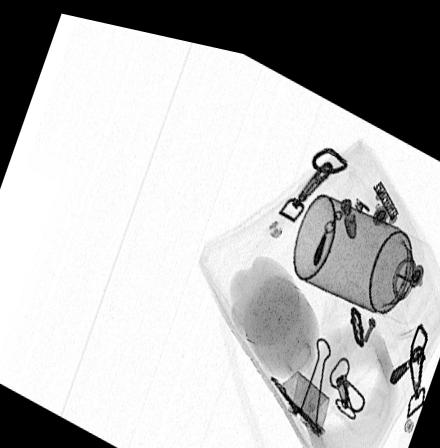Sprayer: (292, 177, 432, 307)
